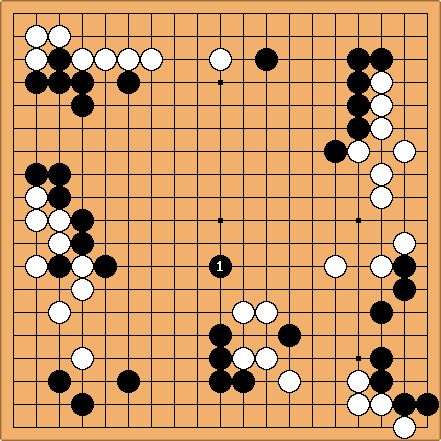black: (24, 70, 46, 92), (24, 162, 46, 184), (47, 255, 69, 277), (47, 370, 69, 392), (47, 47, 69, 69), (47, 70, 69, 92), (47, 162, 69, 184), (47, 185, 69, 207), (70, 209, 92, 231), (70, 232, 92, 254), (70, 393, 92, 415), (70, 70, 92, 92), (70, 93, 92, 115), (93, 255, 115, 277), (116, 370, 138, 392), (116, 70, 138, 92), (209, 255, 231, 277), (209, 324, 231, 346), (209, 347, 231, 369), (209, 370, 231, 392), (232, 370, 254, 392), (255, 47, 277, 69), (278, 324, 300, 346), (324, 139, 346, 161), (347, 47, 369, 69), (347, 70, 369, 92), (347, 93, 369, 115), (347, 116, 369, 138), (370, 301, 392, 323), (370, 347, 392, 369), (370, 370, 392, 392), (370, 47, 392, 69), (393, 255, 415, 277), (393, 278, 415, 300), (393, 393, 415, 415), (417, 393, 439, 415)
white: (24, 209, 46, 231), (24, 255, 46, 277), (24, 24, 46, 46), (24, 47, 46, 69), (24, 185, 46, 207), (47, 209, 69, 231), (47, 232, 69, 254), (47, 301, 69, 323), (47, 24, 69, 46), (70, 255, 92, 277), (70, 278, 92, 300), (70, 347, 92, 369), (70, 47, 92, 69), (93, 47, 115, 69), (116, 47, 138, 69), (139, 47, 161, 69), (209, 47, 231, 69), (232, 301, 254, 323), (232, 347, 254, 369), (255, 301, 277, 323), (255, 347, 277, 369), (278, 370, 300, 392), (324, 255, 346, 277), (347, 370, 369, 392), (347, 393, 369, 415), (347, 139, 369, 161), (370, 255, 392, 277), (370, 393, 392, 415), (370, 70, 392, 92), (370, 93, 392, 115), (370, 116, 392, 138), (370, 162, 392, 184), (370, 185, 392, 207), (393, 232, 415, 254), (393, 417, 415, 439), (393, 139, 415, 161)
